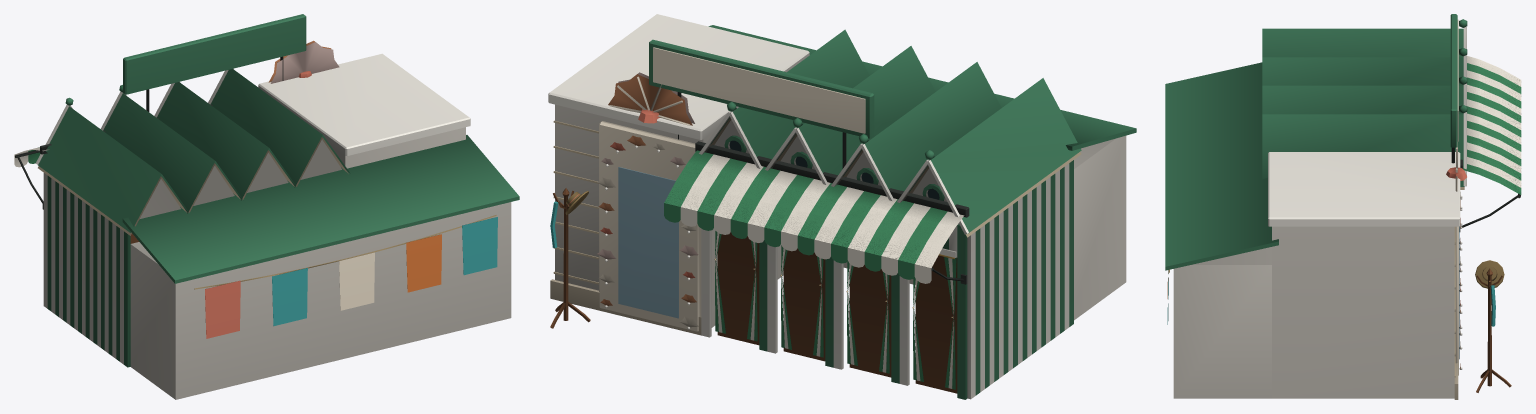
File: pav_cabins.glb
The picture shows the model from 3 angles, left to right: view 1: azimuth 30°, elevation 25°; view 2: azimuth 150°, elevation 25°; view 3: azimuth 270°, elevation 25°; orthographic projection. The views are drawn at different scales.
Visible parts, largest first — view 1: static_cabins; view 2: static_cabins; view 3: static_cabins.
Part boxes in pixels (x1,y1,x2,y2): static_cabins: [14, 14, 519, 399]; static_cabins: [548, 14, 1136, 399]; static_cabins: [1165, 14, 1521, 399].
Size of the model in its own units: 6.18 by 3.91 by 5.07.
